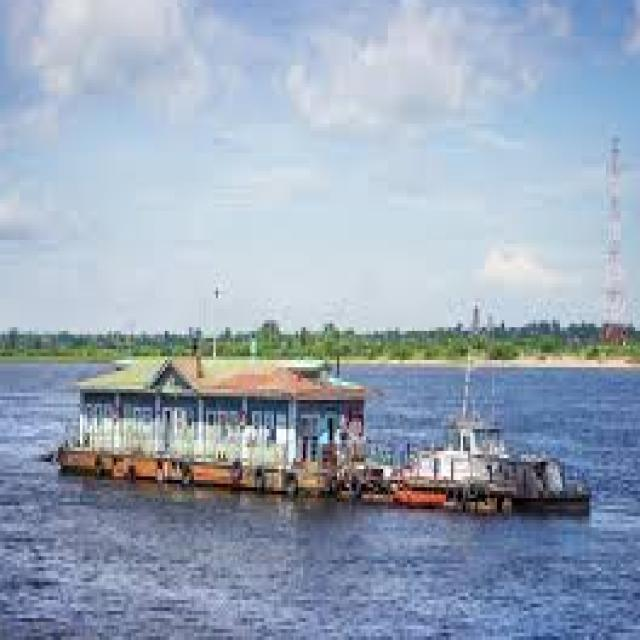houseboat: (49, 306, 597, 523)
